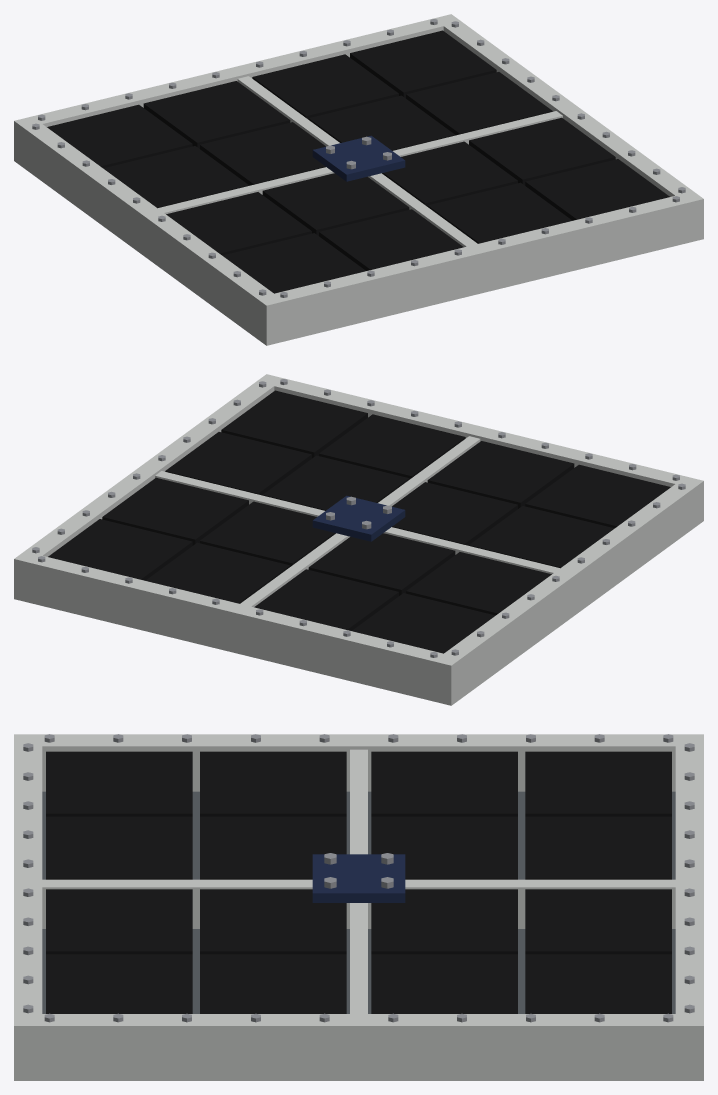
File: reactor_cooling_pad.obj
3 views of the same model, one above another, from view 1: azimuth 30°, elevation 25°; view 2: azimuth 150°, elevation 25°; view 3: azimuth 270°, elevation 25° (orthographic). The views are drawn at different scales.
Visible parts, largest first — view 1: reactor_cooling_pad; view 2: reactor_cooling_pad; view 3: reactor_cooling_pad.
Part boxes in pixels (left/top/right/bottom): reactor_cooling_pad: left=14, top=14, right=703, bottom=345; reactor_cooling_pad: left=14, top=374, right=703, bottom=705; reactor_cooling_pad: left=14, top=734, right=703, bottom=1080.
Bounding box in the file's own units: 1.4 × 0.15 × 1.4.
